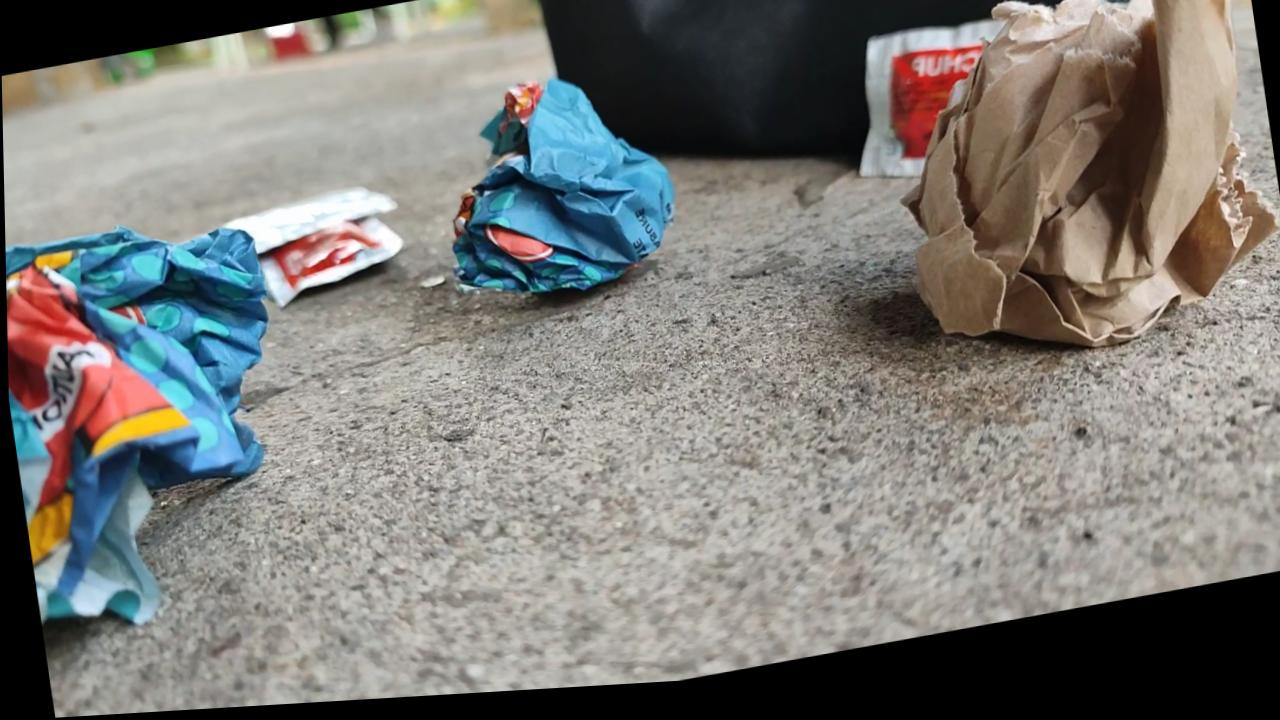paper: (906, 0, 1275, 345), (8, 227, 266, 620), (454, 79, 673, 291)
